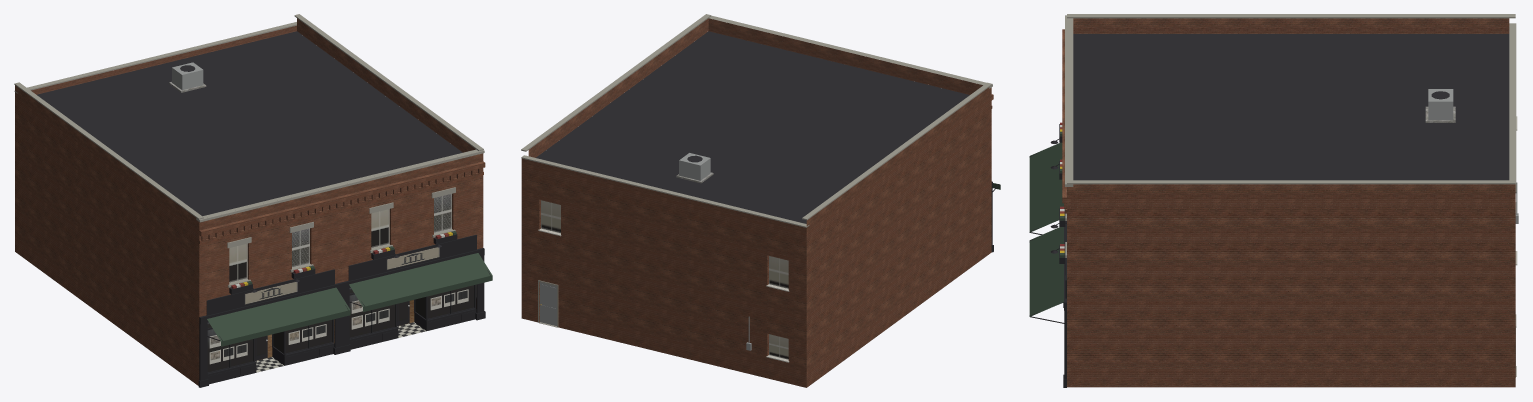
Rendered from town_shop_realty.gltf.
3 views of the same model, side by side, from view 1: azimuth 30°, elevation 25°; view 2: azimuth 150°, elevation 25°; view 3: azimuth 270°, elevation 25° (orthographic). The views are drawn at different scales.
Parts seen in each view (by area): view 1: TownShopRealty_Walls, TownShopRealty_RoofDeck, TownShopRealty_Awning, TownShopRealty_Window, TownShopRealty_Coping, TownShopRealty_ParapetIn, TownShopRealty_Cornice, TownShopRealty_Iron, TownShopRealty_SignBand, TownShopRealty_Bulkheads, TownShopRealty_Photos, TownShopRealty_Sign (+5 smaller); view 2: TownShopRealty_Walls, TownShopRealty_RoofDeck, TownShopRealty_ParapetIn, TownShopRealty_Coping, TownShopRealty_Window, TownShopRealty_HVAC, TownShopRealty_ClosedDoor, TownShopRealty_Trim; view 3: TownShopRealty_Walls, TownShopRealty_RoofDeck, TownShopRealty_Coping, TownShopRealty_ParapetIn, TownShopRealty_Awning, TownShopRealty_HVAC, TownShopRealty_Cornice.
Part boxes in pixels (x1,y1,x2,y2): TownShopRealty_Walls: (15,85,483,385); TownShopRealty_RoofDeck: (36,31,462,216); TownShopRealty_Awning: (207,253,492,346); TownShopRealty_Window: (207,194,474,372); TownShopRealty_Coping: (14,14,484,222); TownShopRealty_ParapetIn: (31,18,475,152); TownShopRealty_Cornice: (199,161,485,243); TownShopRealty_Iron: (198,248,485,387); TownShopRealty_SignBand: (206,234,476,315); TownShopRealty_Bulkheads: (207,308,476,384); TownShopRealty_Photos: (209,289,468,364); TownShopRealty_Sign: (244,247,439,304); TownShopRealty_Walls: (521,87,991,387); TownShopRealty_RoofDeck: (536,31,969,223); TownShopRealty_ParapetIn: (528,18,982,157); TownShopRealty_Coping: (521,14,992,227); TownShopRealty_Window: (541,200,788,359); TownShopRealty_HVAC: (676,153,713,183); TownShopRealty_ClosedDoor: (540,282,556,325); TownShopRealty_Trim: (538,228,789,362); TownShopRealty_Walls: (1067,184,1515,387); TownShopRealty_RoofDeck: (1073,34,1509,180); TownShopRealty_Coping: (1065,14,1516,192); TownShopRealty_ParapetIn: (1073,18,1509,33); TownShopRealty_Awning: (1029,142,1063,316); TownShopRealty_HVAC: (1425,89,1455,122); TownShopRealty_Cornice: (1062,29,1066,213).
Size of what is drawn, in the model's own units: 16.1 by 9.21 by 19.62.
2 materials, 2 textured.
